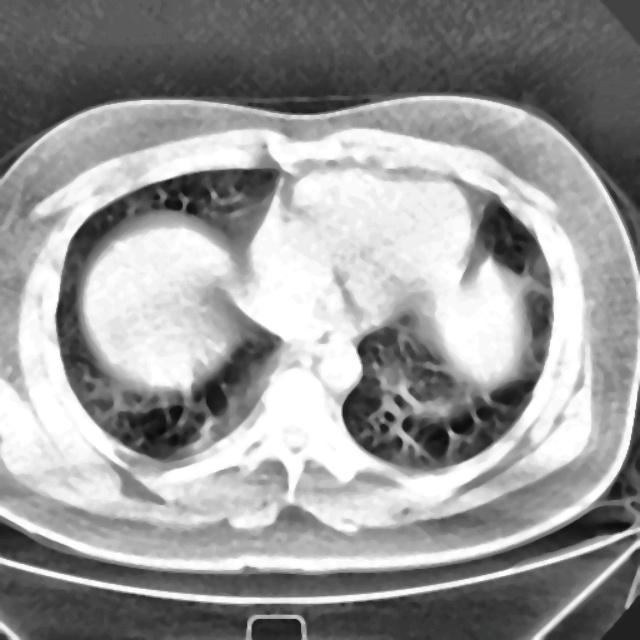covid: (1, 94, 637, 572)
